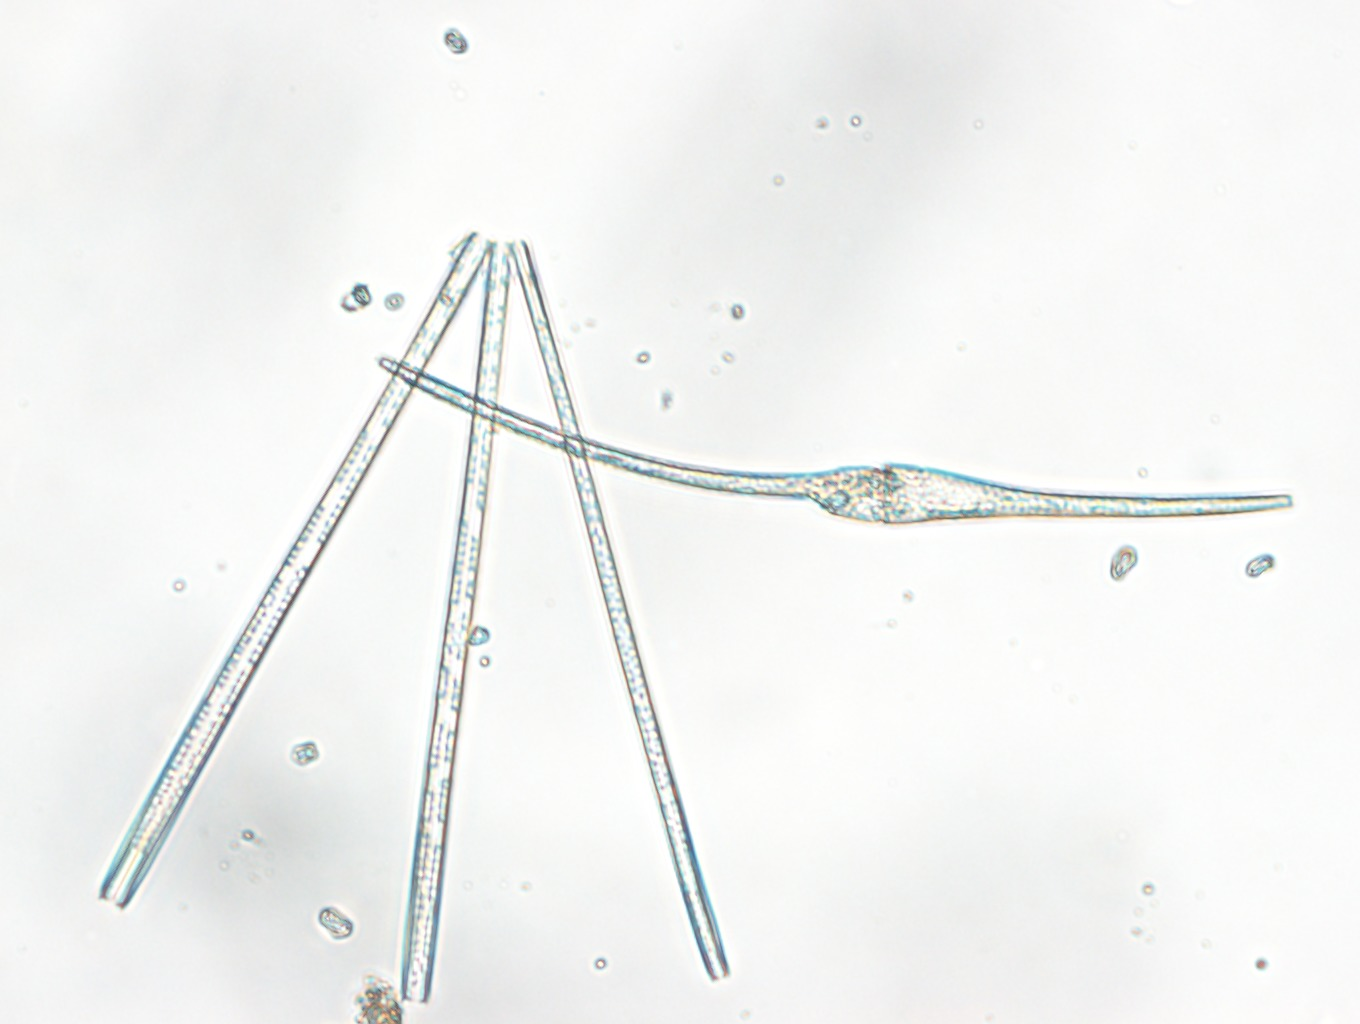ceratium fusus: (378, 353, 1297, 524)
thalassionema frauenfeldii: (95, 231, 732, 1002)
